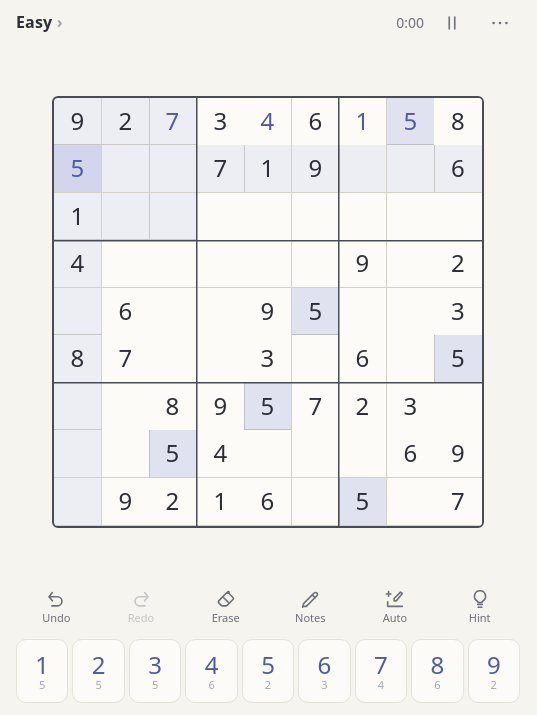
Test: App › disables undo once the configured limit is reached
Click the button "Undo" at (56,606), box 16,580 -> 97,631
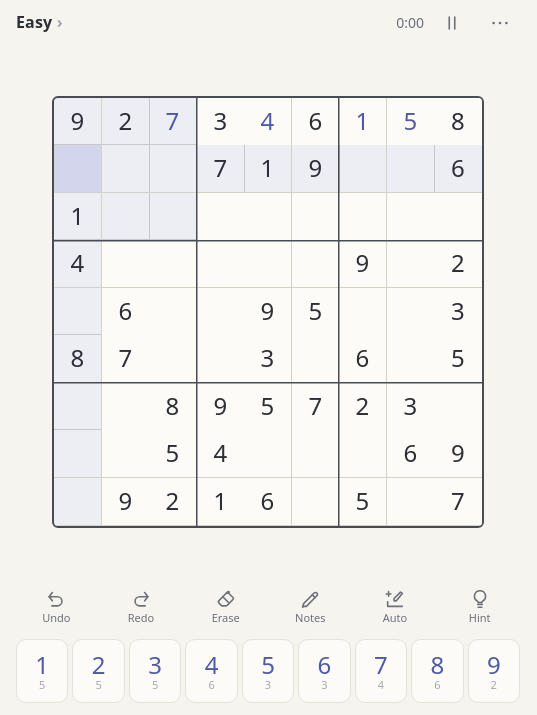
Click the button "Undo" at (56,606), box 16,580 -> 97,631
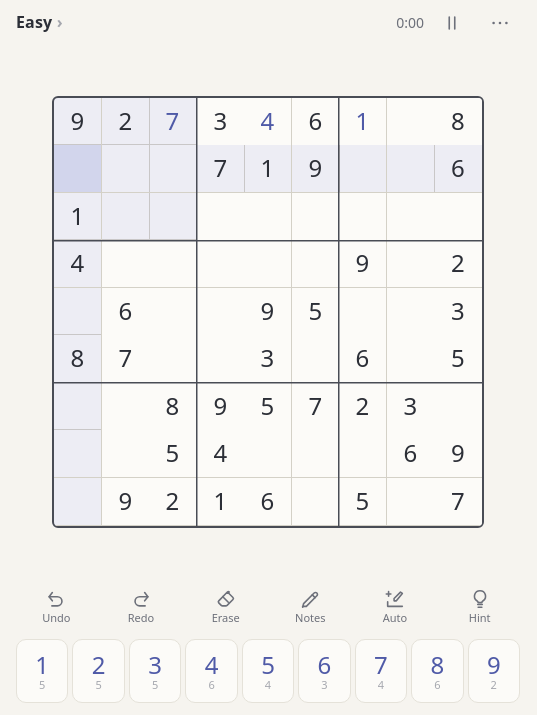
Click the button "Undo" at (56,606), box 16,580 -> 97,631
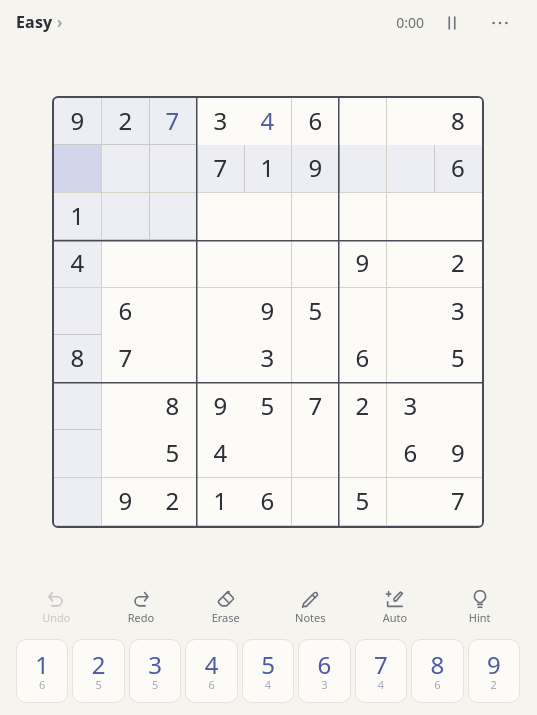
Check: the button "Undo" is disabled, box 16,580 -> 97,631
